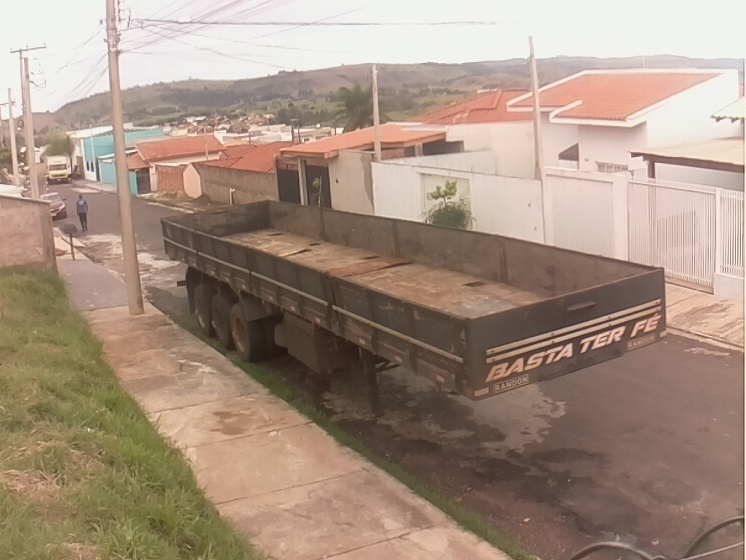person: (75, 192, 91, 235)
